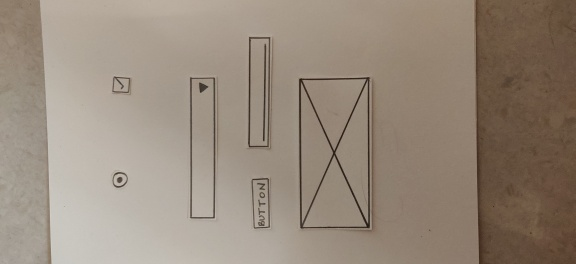button: (249, 174, 274, 232)
checkbox: (106, 73, 134, 98)
dropdown: (184, 73, 220, 222)
img: (293, 74, 377, 234)
radio: (109, 170, 131, 190)
text: (244, 34, 274, 152)
